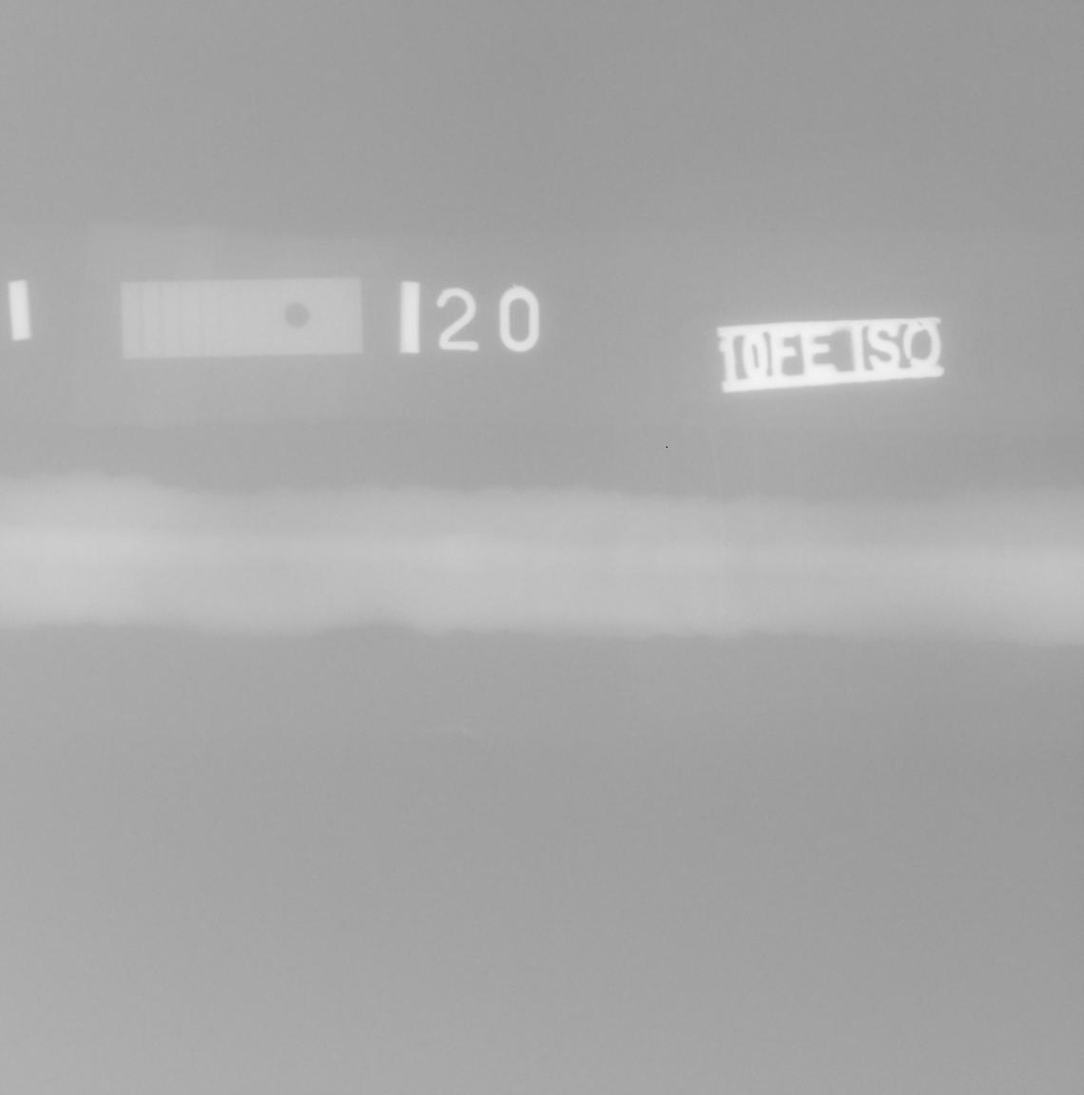Reference Standard 1: (120, 277, 363, 360)
